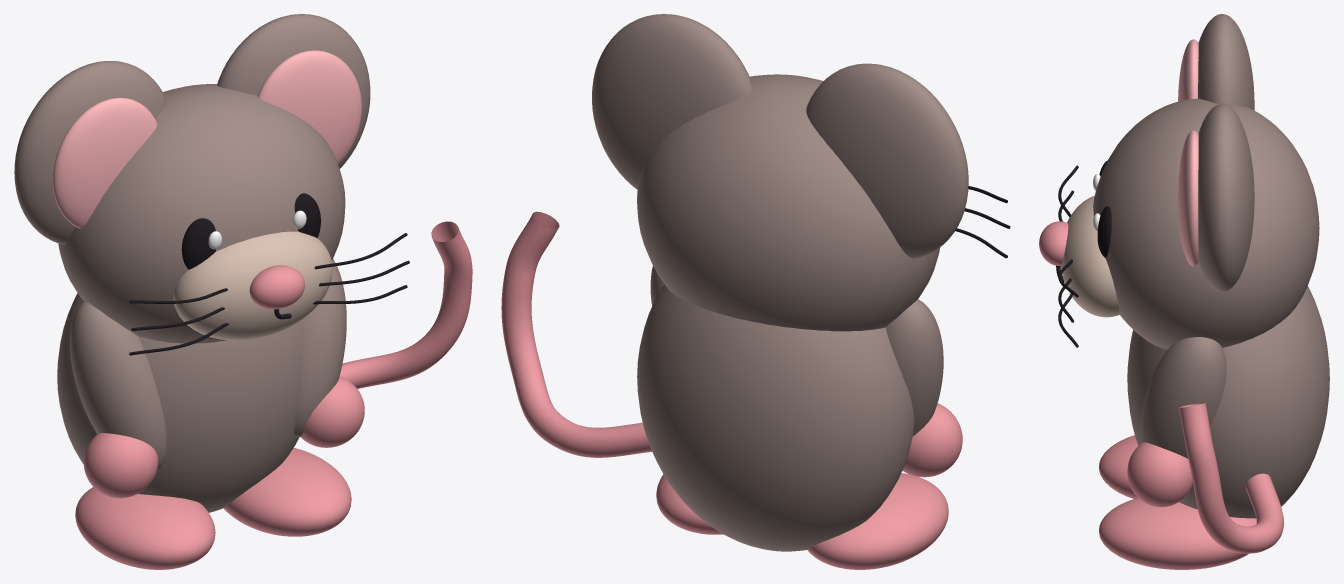
The model's file is basic_mouse.glb.
3 renders of one model, left to right at view 1: azimuth 30°, elevation 25°; view 2: azimuth 150°, elevation 25°; view 3: azimuth 270°, elevation 25°, orthographic. The views are drawn at different scales.
Visible parts, largest first — view 1: Head, Body, Muzzle, Ear_-1, Arm_-1, Foot_-1, Inner_Ear_-1, Foot_+1, Inner_Ear_+1, Ear_+1, Tail, Arm_+1 (+5 smaller); view 2: Body, Head, Ear_-1, Ear_+1, Tail, Foot_-1, Arm_-1, Hand_-1, Foot_+1; view 3: Head, Body, Ear_+1, Foot_+1, Tail, Arm_+1, Ear_-1, Muzzle, Hand_+1, Inner_Ear_+1, Foot_-1, Inner_Ear_-1 (+2 smaller).
Boxes of the visible parts, x1,y1,x2,y2 form: Head: (58,84,345,343); Body: (57,293,303,512); Muzzle: (173,231,332,340); Ear_-1: (14,61,167,244); Arm_-1: (70,301,166,470); Foot_-1: (75,487,215,569); Inner_Ear_-1: (52,97,157,228); Foot_+1: (223,448,351,536); Inner_Ear_+1: (257,50,361,164); Ear_+1: (217,14,370,168); Tail: (339,221,472,388); Arm_+1: (294,259,346,437); Body: (637,284,914,551); Head: (637,74,940,331); Ear_-1: (806,63,968,258); Ear_+1: (592,14,753,189); Tail: (501,211,652,457); Foot_-1: (807,473,948,569); Arm_-1: (886,299,943,436); Hand_-1: (902,403,962,477); Foot_+1: (656,474,723,534); Head: (1093,98,1319,349); Body: (1127,286,1329,518); Ear_+1: (1198,104,1254,291); Foot_+1: (1099,498,1256,569); Tail: (1179,402,1283,553); Arm_+1: (1140,337,1226,458); Ear_-1: (1198,14,1254,110); Muzzle: (1060,196,1119,317); Hand_+1: (1127,442,1192,507); Inner_Ear_+1: (1178,130,1198,266); Foot_-1: (1099,435,1137,498); Inner_Ear_-1: (1178,39,1198,101).
Size of the model in its own units: 3.79 by 3.93 by 2.24.
